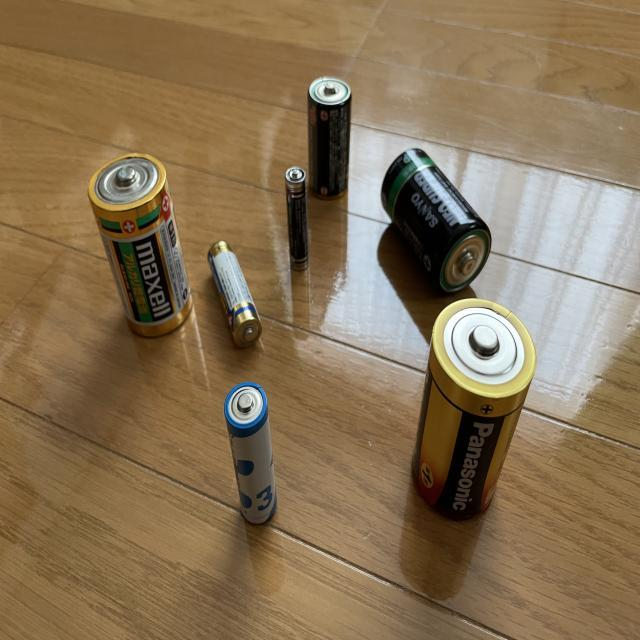hazardous waste: (408, 296, 538, 522), (89, 151, 188, 333), (380, 144, 494, 290), (221, 376, 281, 532), (200, 235, 268, 352), (304, 72, 358, 202), (280, 159, 316, 276)
